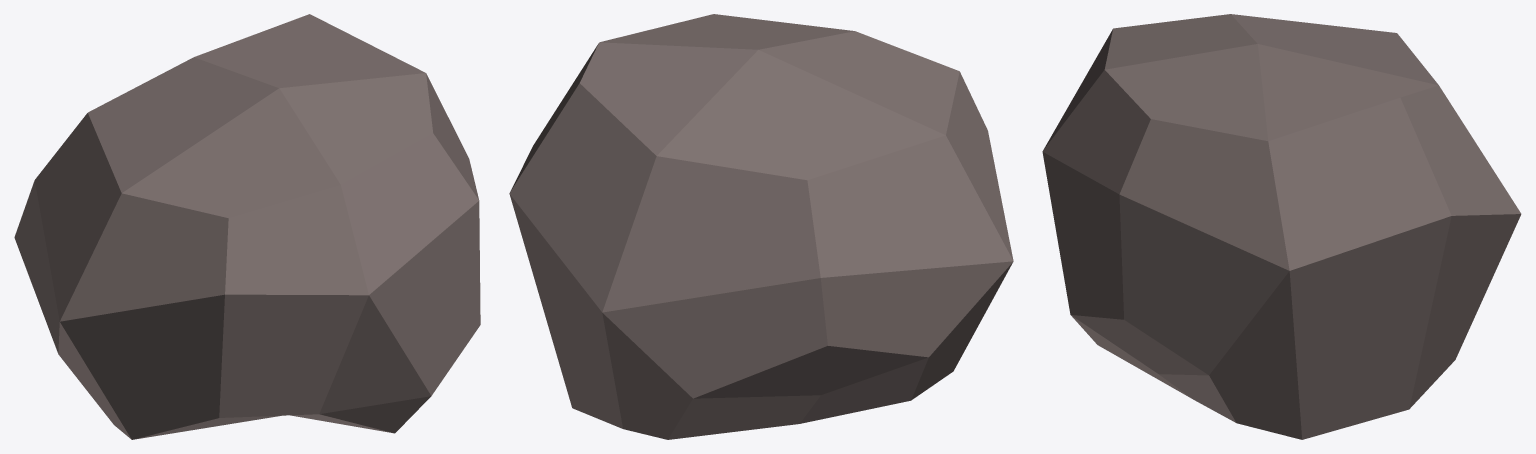
Rendered from RoundRock.fbx.
The picture shows the model from 3 angles, left to right: view 1: azimuth 30°, elevation 25°; view 2: azimuth 150°, elevation 25°; view 3: azimuth 270°, elevation 25°; orthographic projection. The views are drawn at different scales.
Visible parts, largest first — view 1: RoundRock; view 2: RoundRock; view 3: RoundRock.
Boxes of the visible parts, x1=… form: RoundRock: x1=14, y1=14, x2=480, y2=439; RoundRock: x1=509, y1=14, x2=1013, y2=439; RoundRock: x1=1042, y1=14, x2=1521, y2=439.
Size of the model in its own units: 259 by 186 by 249.
